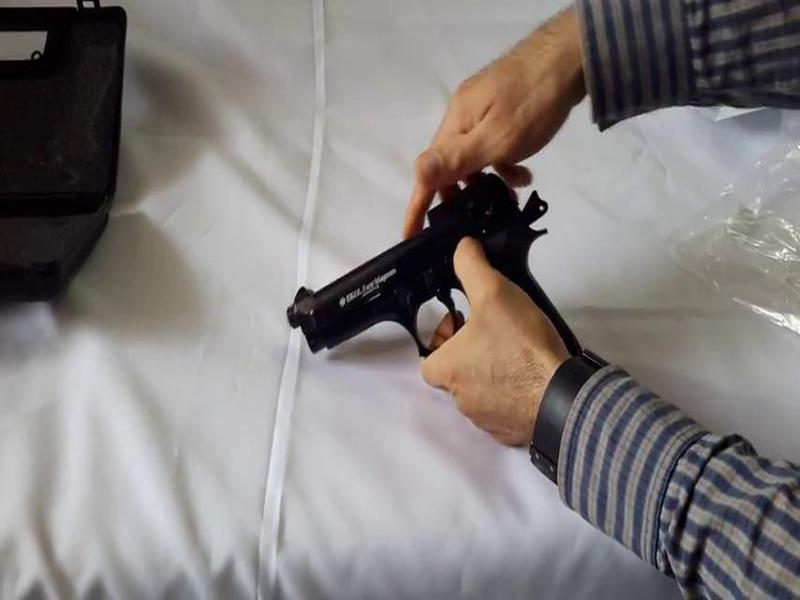Pistola: (273, 165, 585, 390)
